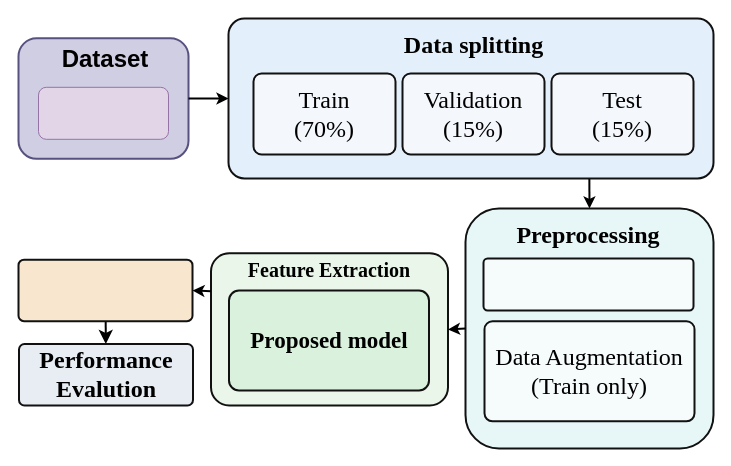
The diagram is 731 pixels wide and 466 high, and some of its shapes have lost their labels. The centre of each missing label's shape, as x and y in pixels:
"EUROSAT" belongs at (x=103, y=112).
"Normalization" belongs at (x=588, y=284).
"SVM Classification" belongs at (x=105, y=290).
